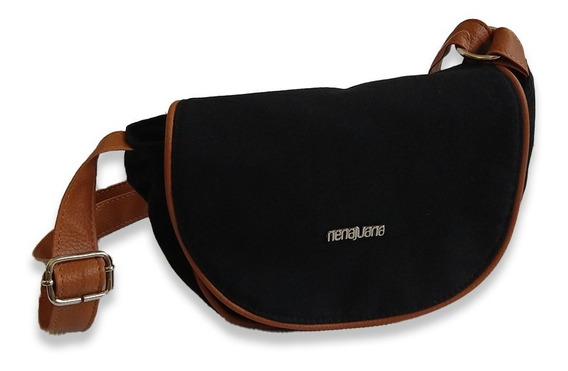cartera: (124, 16, 537, 333)
